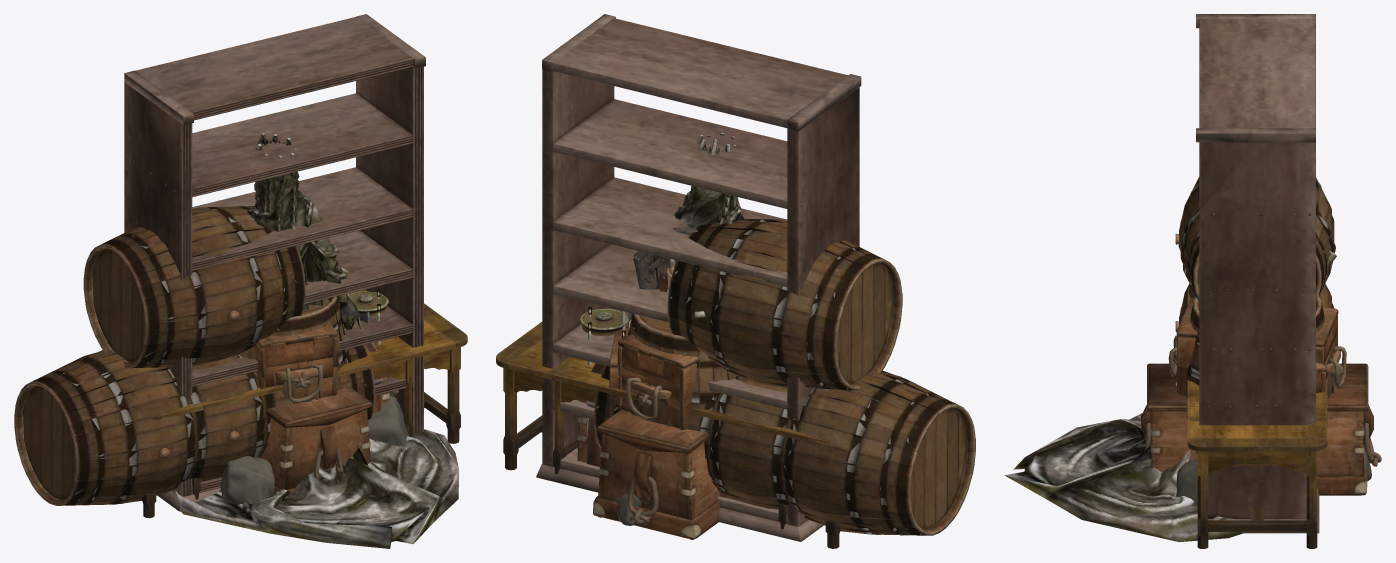
The model's file is phprops.glb.
3 views of the same model, side by side, from view 1: azimuth 30°, elevation 25°; view 2: azimuth 150°, elevation 25°; view 3: azimuth 270°, elevation 25° (orthographic). The views are drawn at different scales.
Parts seen in each view (by area): view 1: wooden_bookshelf_worn, wine_barrel_01 (×7), gothic_statue, WoodenTable_01 (×2), wooden_crate_02, wooden_crate_01, moon_rock_02 (×2), wooden_crate_02_lid, wooden_crate_01_lid, ceramic_pot; view 2: wooden_bookshelf_worn, wine_barrel_01 (×7), wooden_crate_02, WoodenTable_01 (×2), wooden_crate_01, wooden_crate_02_lid, gothic_statue, ceramic_pot, kite_shield, wooden_crate_01_lid, treasure_chest; view 3: wooden_bookshelf_worn, gothic_statue, WoodenTable_01 (×2), wooden_crate_02, wine_barrel_01 (×2), wooden_crate_02_lid, wooden_crate_01, wooden_crate_01_lid, moon_rock_02.
Part boxes in pixels (x1,y1,x2,y2): wooden_bookshelf_worn: [124, 14, 425, 511]; wine_barrel_01 (×7): [14, 206, 374, 505]; gothic_statue: [175, 133, 458, 548]; WoodenTable_01 (×2): [141, 303, 467, 518]; wooden_crate_02: [261, 409, 370, 498]; wooden_crate_01: [254, 335, 337, 402]; moon_rock_02 (×2): [220, 395, 409, 504]; wooden_crate_02_lid: [266, 386, 372, 428]; wooden_crate_01_lid: [256, 324, 337, 347]; ceramic_pot: [349, 291, 388, 316]; wooden_bookshelf_worn: [536, 14, 861, 541]; wine_barrel_01 (×7): [594, 219, 975, 535]; wooden_crate_02: [593, 433, 719, 539]; WoodenTable_01 (×2): [496, 321, 840, 548]; wooden_crate_01: [617, 346, 699, 430]; wooden_crate_02_lid: [596, 409, 709, 453]; gothic_statue: [670, 132, 744, 321]; ceramic_pot: [579, 308, 628, 335]; kite_shield: [640, 253, 676, 291]; wooden_crate_01_lid: [618, 333, 699, 368]; treasure_chest: [586, 401, 740, 501]; wooden_bookshelf_worn: [1196, 14, 1319, 533]; gothic_statue: [1005, 250, 1336, 542]; WoodenTable_01 (×2): [1187, 288, 1327, 548]; wooden_crate_02: [1141, 405, 1381, 495]; wine_barrel_01 (×2): [1178, 177, 1335, 399]; wooden_crate_02_lid: [1147, 363, 1368, 411]; wooden_crate_01: [1168, 315, 1346, 395]; wooden_crate_01_lid: [1176, 298, 1338, 347]; moon_rock_02: [1176, 458, 1197, 506].
Bounding box in the file's own units: 2.15 × 2.15 × 1.77.
21 materials, 21 textured.
